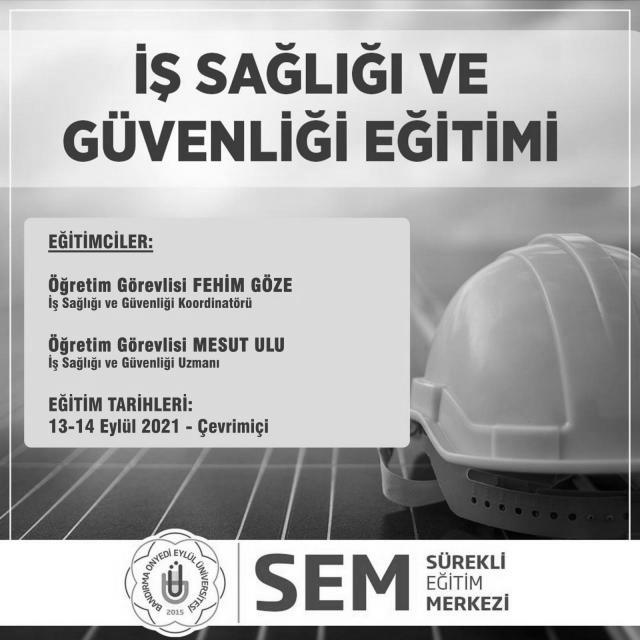construction helmet: (410, 234, 631, 482)
